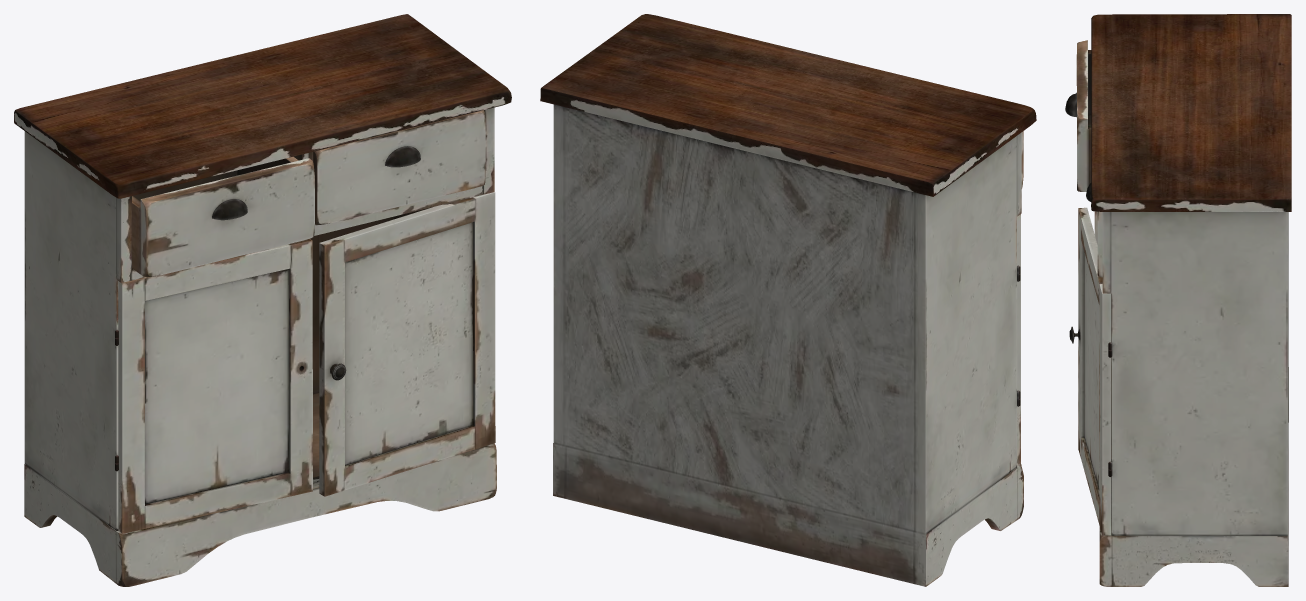
Rendered from painted_wooden_cabinet.glb.
3 renders of one model, left to right at view 1: azimuth 30°, elevation 25°; view 2: azimuth 150°, elevation 25°; view 3: azimuth 270°, elevation 25°, orthographic. The views are drawn at different scales.
Visible parts, largest first — view 1: painted_wooden_cabinet, painted_wooden_cabinet_door_01, painted_wooden_cabinet_door_02, painted_wooden_cabinet_drawer_01, painted_wooden_cabinet_drawer_02; view 2: painted_wooden_cabinet, painted_wooden_cabinet_door_01; view 3: painted_wooden_cabinet, painted_wooden_cabinet_door_02, painted_wooden_cabinet_drawer_01, painted_wooden_cabinet_drawer_02.
Boxes of the visible parts, x1,y1,x2,y2 form: painted_wooden_cabinet: [14, 14, 511, 586]; painted_wooden_cabinet_door_01: [118, 238, 312, 533]; painted_wooden_cabinet_door_02: [319, 192, 495, 496]; painted_wooden_cabinet_drawer_01: [132, 156, 314, 277]; painted_wooden_cabinet_drawer_02: [313, 110, 485, 224]; painted_wooden_cabinet: [540, 14, 1036, 586]; painted_wooden_cabinet_door_01: [1017, 214, 1020, 465]; painted_wooden_cabinet: [1091, 14, 1291, 586]; painted_wooden_cabinet_door_02: [1069, 207, 1110, 535]; painted_wooden_cabinet_drawer_01: [1065, 40, 1091, 191]; painted_wooden_cabinet_drawer_02: [1086, 183, 1102, 277].
Bounding box in the file's own units: 1.19 × 1.18 × 0.6166.
1 material, 1 textured.
